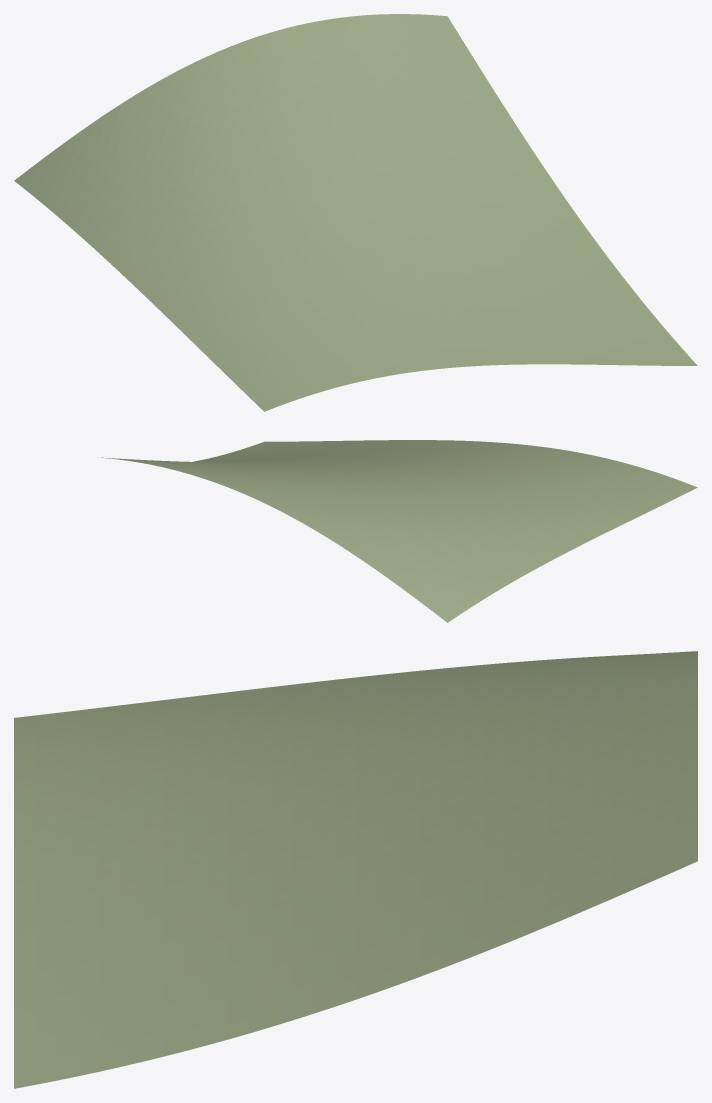
File: expanse-22-23.glb
The picture shows the model from 3 angles, top to bottom: view 1: azimuth 30°, elevation 25°; view 2: azimuth 150°, elevation 25°; view 3: azimuth 270°, elevation 25°; orthographic projection. The views are drawn at different scales.
Parts seen in each view (by area): view 1: expanse-22-23; view 2: expanse-22-23; view 3: expanse-22-23.
Boxes of the visible parts, <box> form: expanse-22-23: <box>14,14,697,411</box>; expanse-22-23: <box>97,440,697,622</box>; expanse-22-23: <box>14,651,697,1088</box>.
Size of the model in its own units: 256 by 109 by 256.
